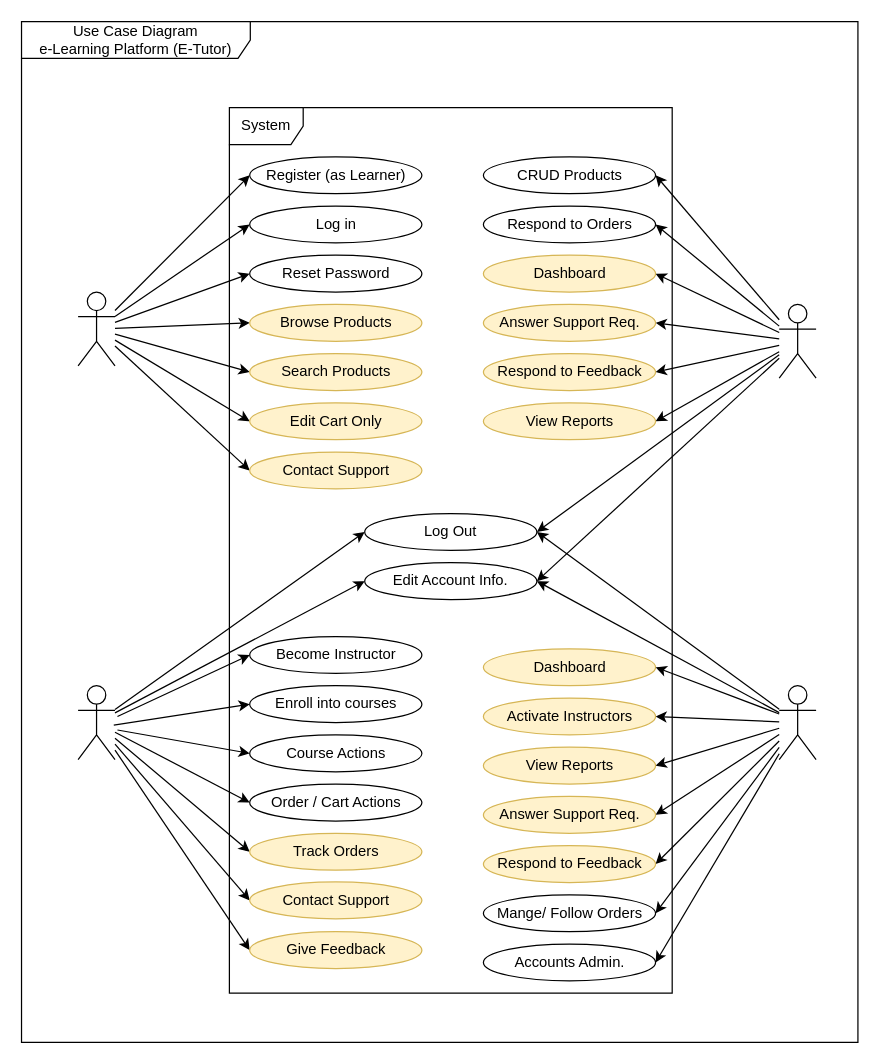
Image size: 879x1064. Some labels were removed from this diagram. Each missing label, with the centre of its shape:
"Admin" belongs at point 797,722.
"Guest" belongs at point 96,328.
"Instructor" belongs at point 797,340.
"Registered / Logged In Learner" belongs at point 96,722.
